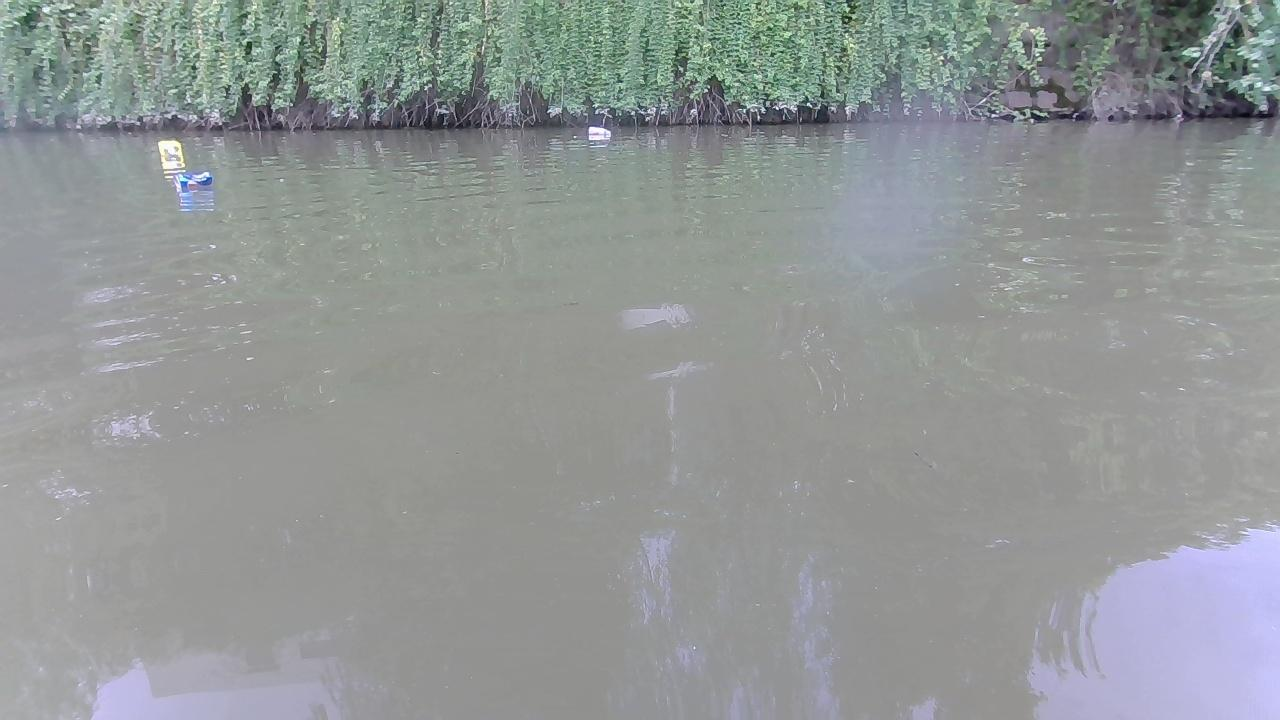bottle: (173, 172, 216, 187), (157, 139, 185, 160), (585, 122, 611, 142)
